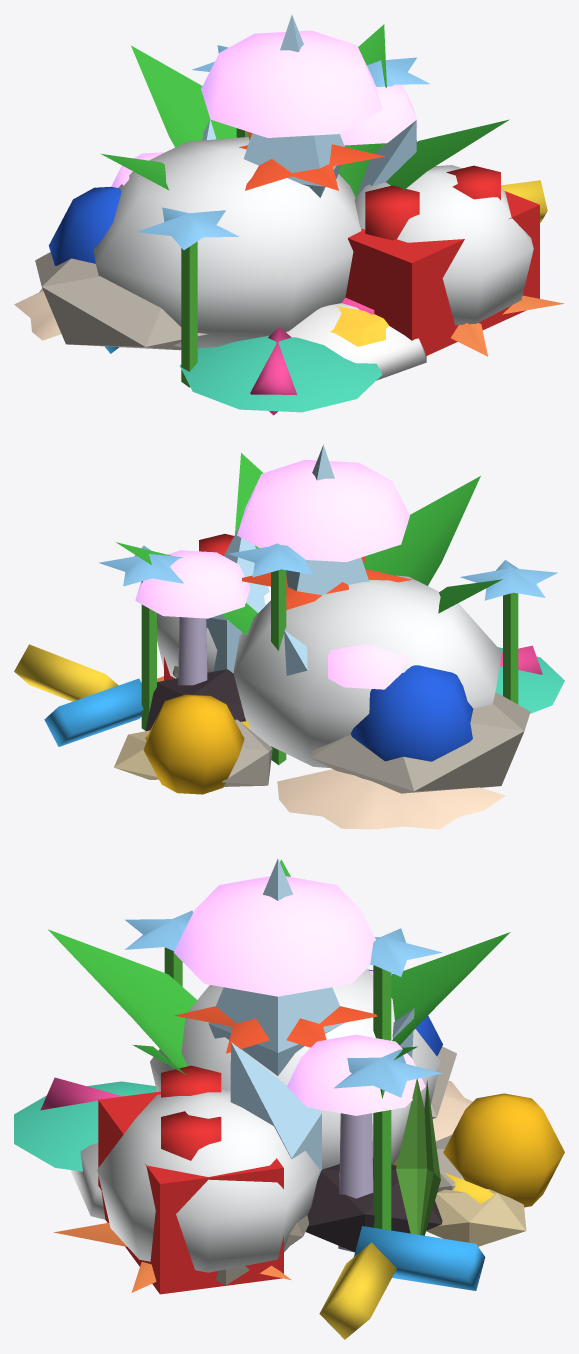
Rendered from worlds-dressing.glb.
3 views of the same model, one above another, from view 1: azimuth 30°, elevation 25°; view 2: azimuth 150°, elevation 25°; view 3: azimuth 270°, elevation 25° (orthographic). The views are drawn at different scales.
Visible parts, largest first — view 1: sky_bloom, toy_bits, glow_shrooms, sprinkles, jungle_bloom, ice_shards, pebbles, shells, embers; view 2: sky_bloom, glow_shrooms, toy_bits, pebbles, shells, sprinkles, jungle_bloom, ice_shards, embers; view 3: sky_bloom, glow_shrooms, toy_bits, sprinkles, jungle_bloom, ice_shards, pebbles, shells, embers.
Part boxes in pixels (bbox=[...]): sky_bloom: bbox=[93, 45, 533, 387]; toy_bits: bbox=[48, 165, 539, 355]; glow_shrooms: bbox=[111, 30, 418, 187]; sprinkles: bbox=[105, 180, 547, 415]; jungle_bloom: bbox=[100, 24, 509, 197]; ice_shards: bbox=[202, 15, 426, 380]; pebbles: bbox=[35, 252, 207, 350]; shells: bbox=[14, 288, 563, 356]; embers: bbox=[330, 306, 388, 346]; sky_bloom: bbox=[98, 543, 557, 768]; glow_shrooms: bbox=[135, 459, 409, 689]; toy_bits: bbox=[143, 534, 473, 794]; pebbles: bbox=[172, 666, 530, 793]; shells: bbox=[114, 676, 505, 829]; sprinkles: bbox=[14, 644, 564, 746]; jungle_bloom: bbox=[115, 453, 502, 635]; ice_shards: bbox=[206, 444, 369, 675]; embers: bbox=[145, 669, 245, 730]; sky_bloom: bbox=[97, 910, 442, 1272]; glow_shrooms: bbox=[174, 876, 425, 1252]; toy_bits: bbox=[98, 969, 564, 1294]; sprinkles: bbox=[14, 1077, 494, 1339]; jungle_bloom: bbox=[48, 859, 510, 1074]; ice_shards: bbox=[70, 858, 414, 1219]; pebbles: bbox=[216, 1046, 464, 1285]; shells: bbox=[53, 1081, 526, 1292]; embers: bbox=[305, 1159, 442, 1252].
Size of the model in its own units: 0.7567 by 0.42 by 0.6336.
